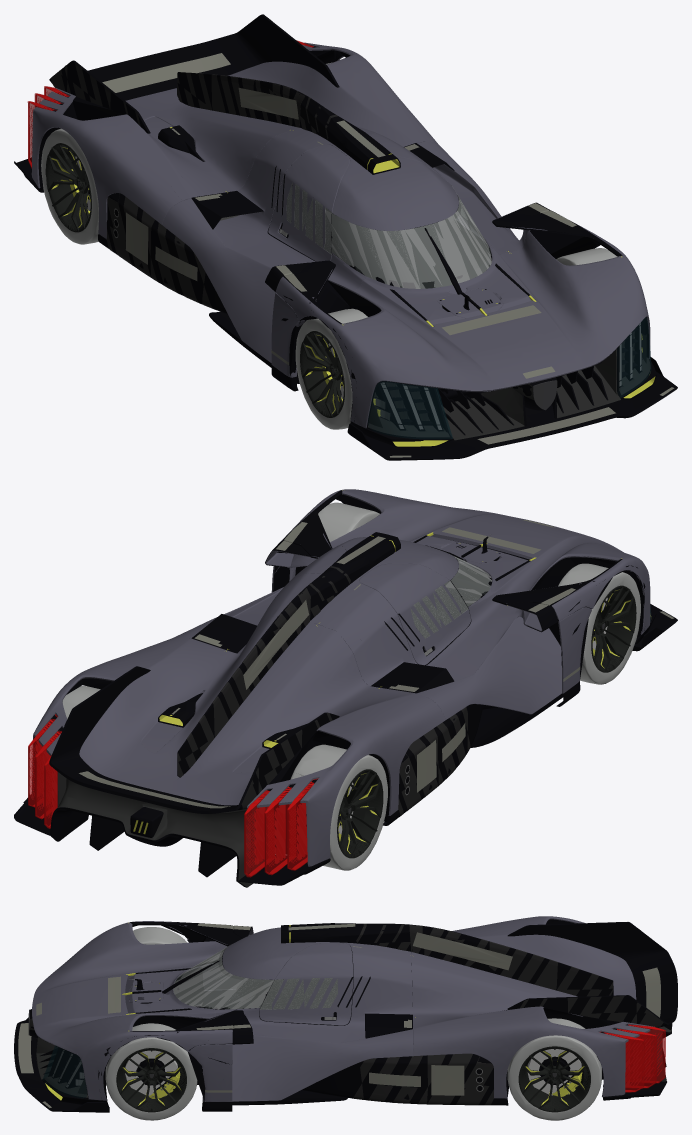
Rendered from peugeot-9x8.obj.
3 renders of one model, top to bottom at view 1: azimuth 30°, elevation 25°; view 2: azimuth 150°, elevation 25°; view 3: azimuth 270°, elevation 25°, orthographic. The views are drawn at different scales.
Visible parts, largest first — view 1: BODY, GLASS, WHEEL_RF, WHEEL_RR, WHEEL_LF; view 2: BODY, GLASS, WHEEL_RR, WHEEL_RF, WHEEL_LF; view 3: BODY, GLASS, WHEEL_LR, WHEEL_LF, WHEEL_RF.
Boxes of the visible parts, x1,y1,x2,y2 form: BODY: [14, 14, 677, 460]; GLASS: [27, 40, 651, 438]; WHEEL_RF: [295, 308, 367, 429]; WHEEL_RR: [41, 128, 98, 244]; WHEEL_LF: [556, 248, 617, 265]; BODY: [14, 489, 677, 887]; GLASS: [28, 555, 651, 877]; WHEEL_RR: [290, 744, 387, 870]; WHEEL_RF: [558, 563, 640, 684]; WHEEL_LF: [318, 502, 379, 541]; BODY: [14, 916, 677, 1112]; GLASS: [43, 945, 665, 1097]; WHEEL_LR: [507, 1018, 601, 1120]; WHEEL_LF: [105, 1023, 197, 1120]; WHEEL_RF: [133, 927, 187, 944].
Size of the model in its own units: 2.04 by 1.18 by 4.99.
